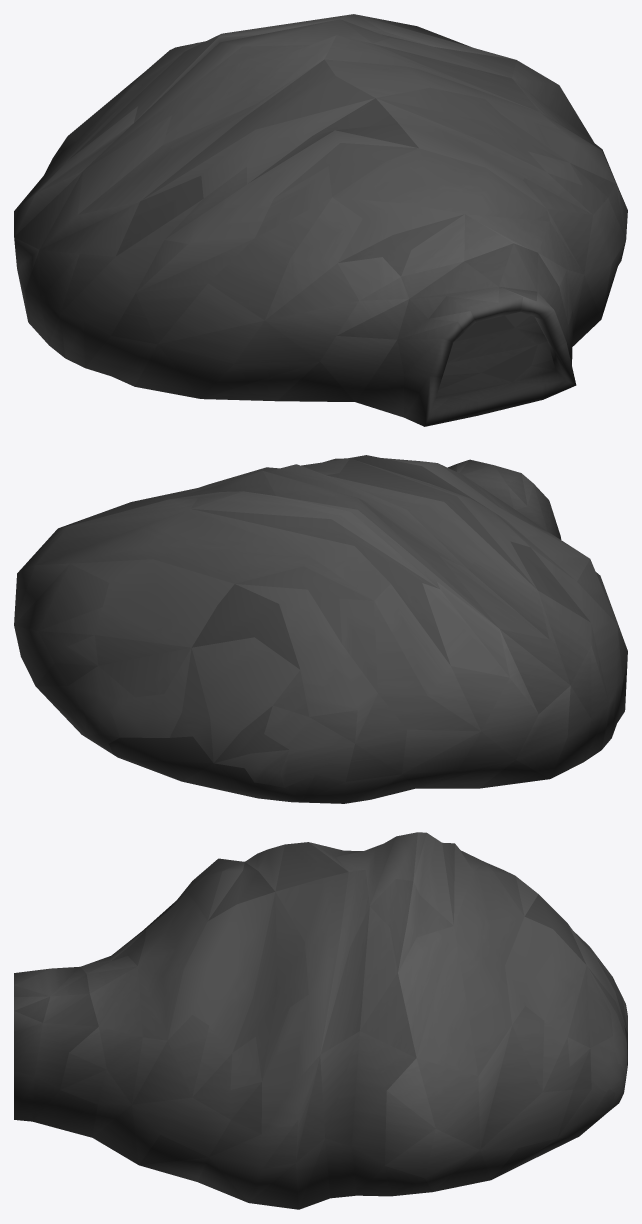
The model's file is GL-Cave-part-08.fbx.
The picture shows the model from 3 angles, top to bottom: view 1: azimuth 30°, elevation 25°; view 2: azimuth 150°, elevation 25°; view 3: azimuth 270°, elevation 25°; orthographic projection. The views are drawn at different scales.
Parts seen in each view (by area): view 1: GL-Cave-part-08; view 2: GL-Cave-part-08; view 3: GL-Cave-part-08.
Part boxes in pixels (x1,y1,x2,y2): GL-Cave-part-08: (14,14,627,426); GL-Cave-part-08: (14,455,627,803); GL-Cave-part-08: (14,832,627,1209).
Bounding box in the file's own units: 12.52 × 5.06 × 12.29.
